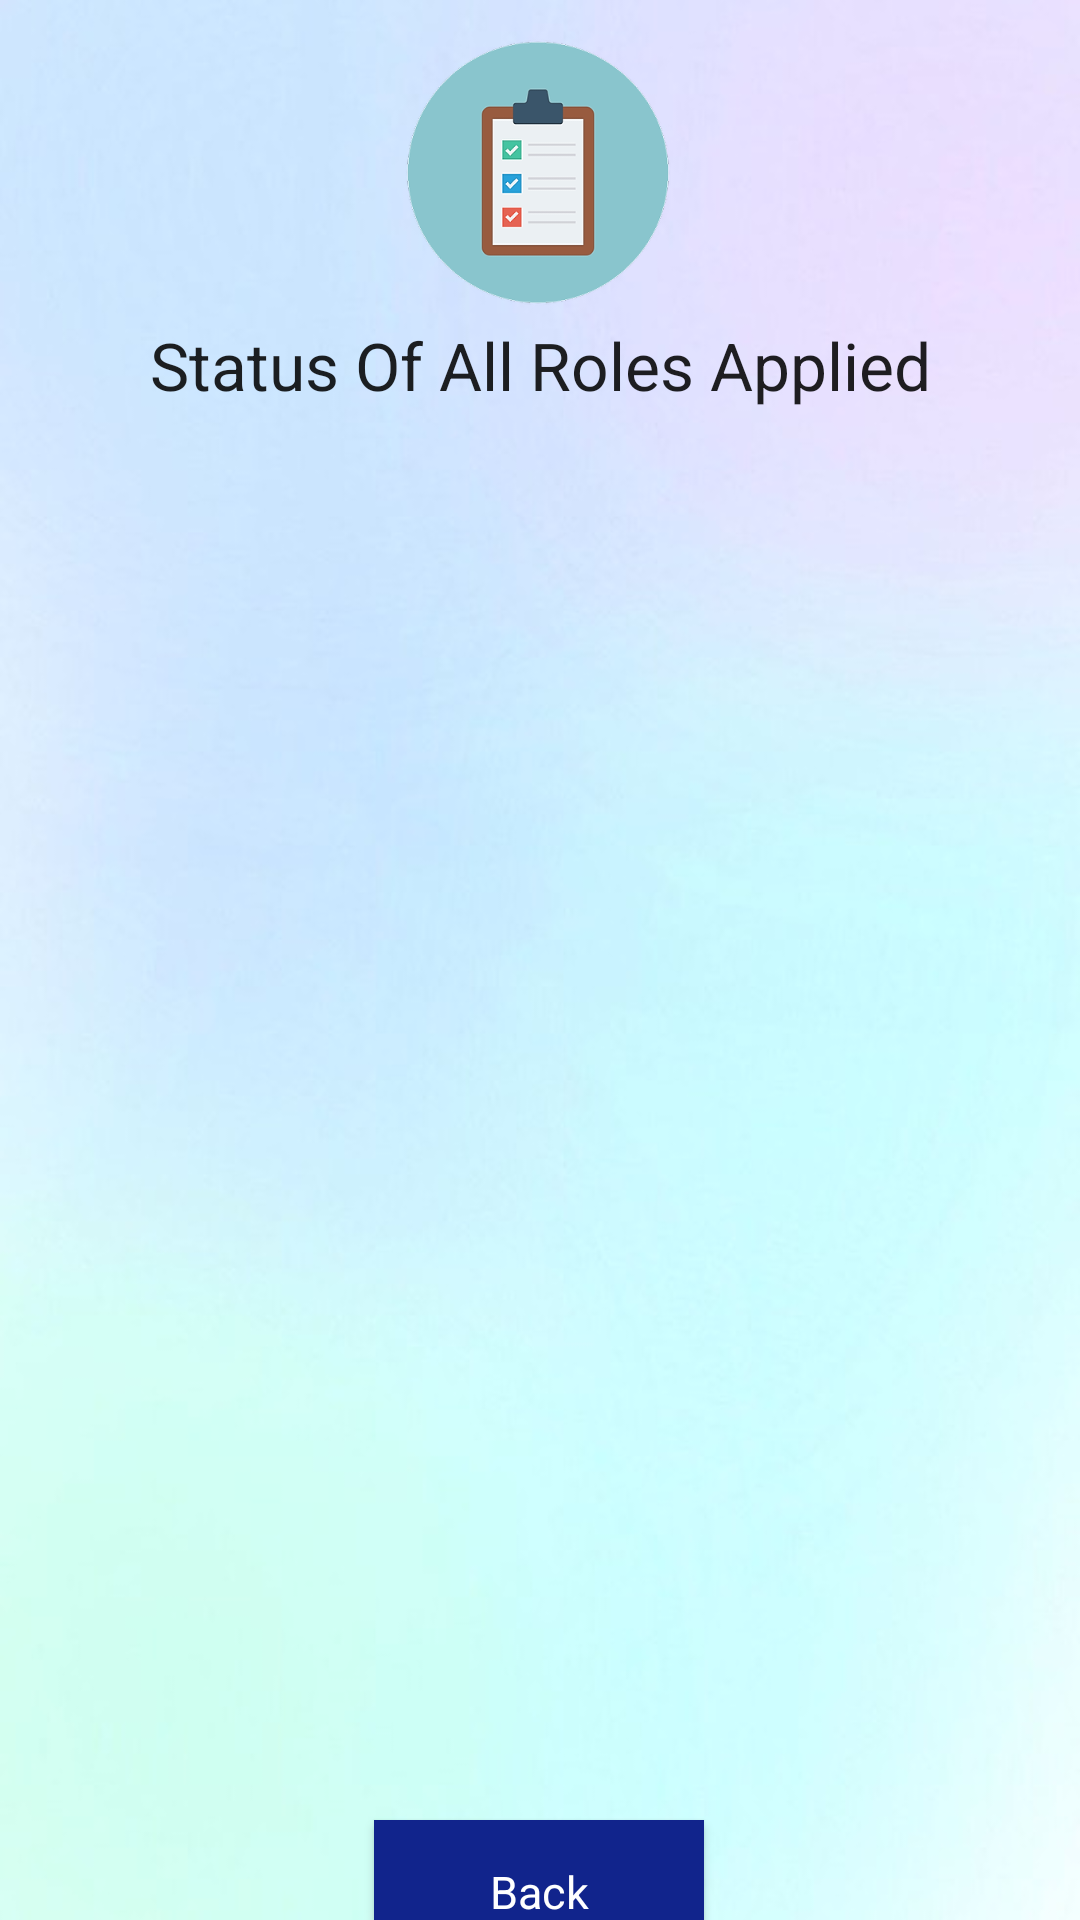

Icons on this 1080*1920 Android screen, each with the point to tap as [x,y]:
list: [538,172]
